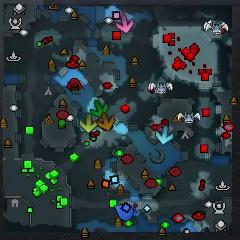p1: (114, 203, 134, 223)
x1: (115, 15, 136, 33)
x2: (79, 114, 97, 132)
x3: (156, 126, 174, 144)
x4: (92, 99, 108, 118)
x5: (97, 112, 116, 131)
